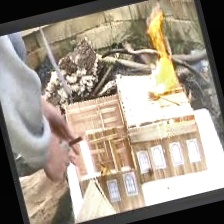fire: (134, 12, 184, 94)
